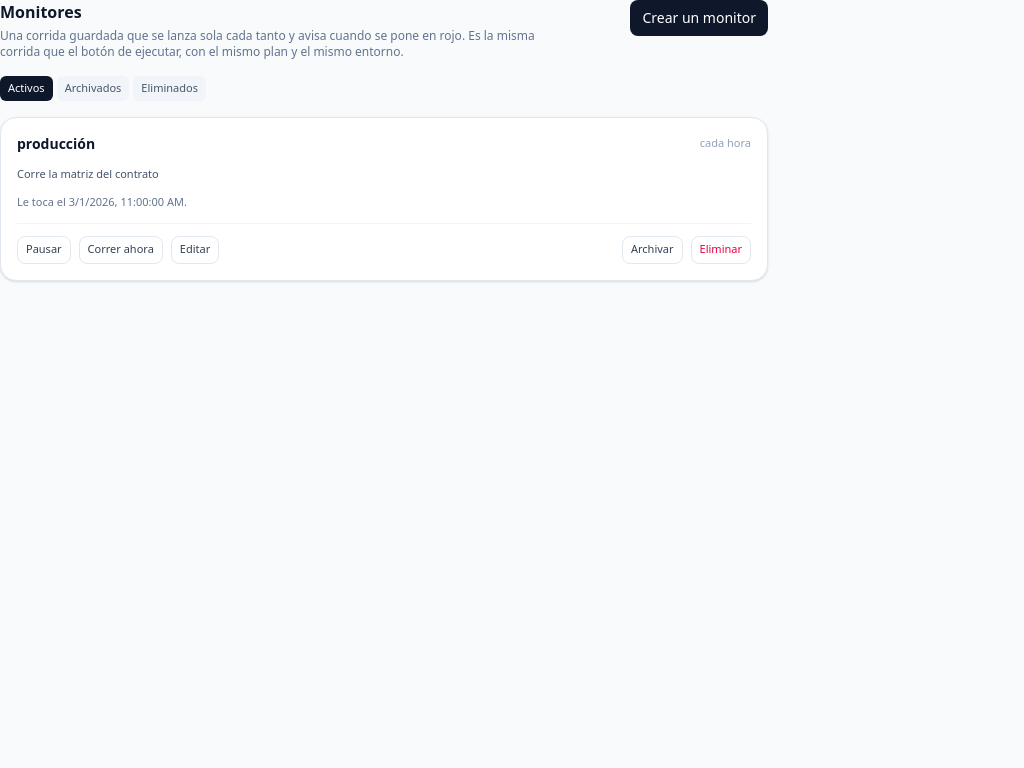
Test: los botones de la tarjeta › eliminar: cancelar no borra; confirmar borra y lo dice; un fallo se dice
Step 1. Click the button "Eliminar" → (721,250), box [691, 236, 751, 264]
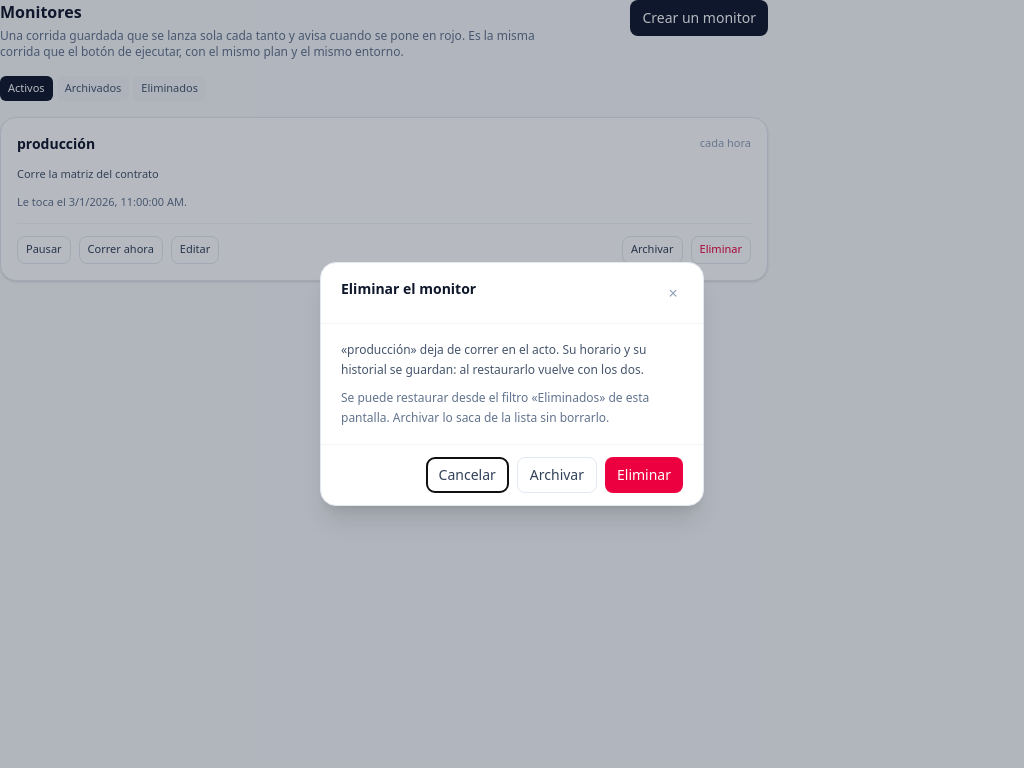
Step 2. Click the button "Cancelar" → (467,475), box [426, 457, 509, 493]
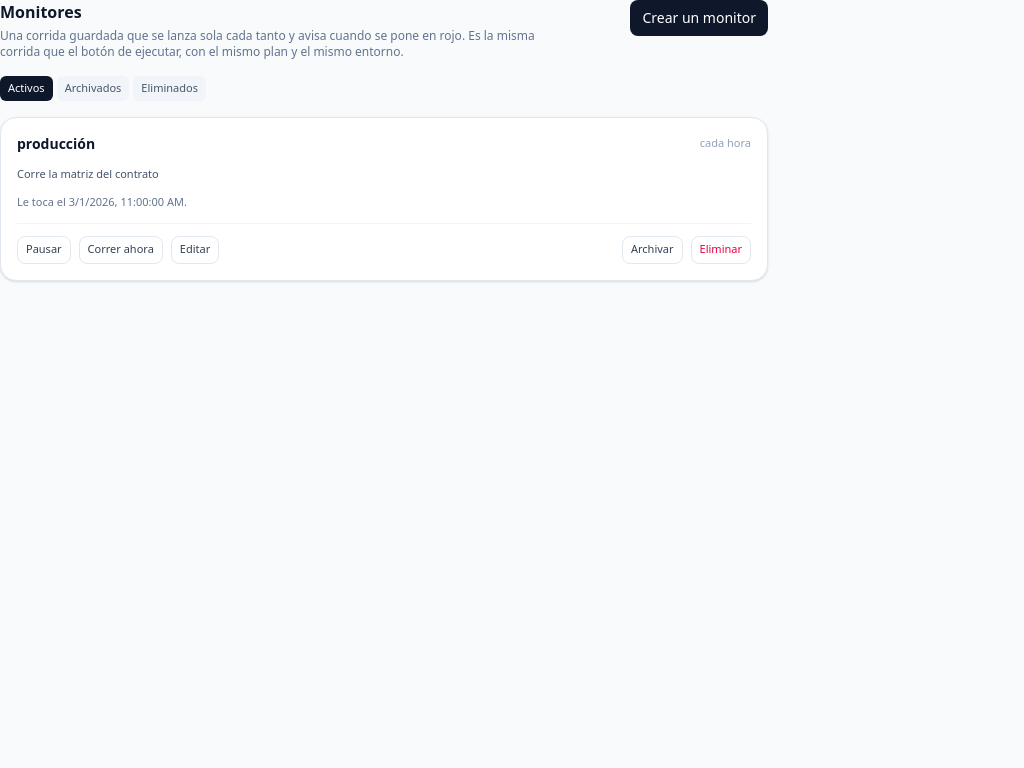
Check: the dialog is gone
Step 3. Click the button "Eliminar" → (721,250), box [691, 236, 751, 264]
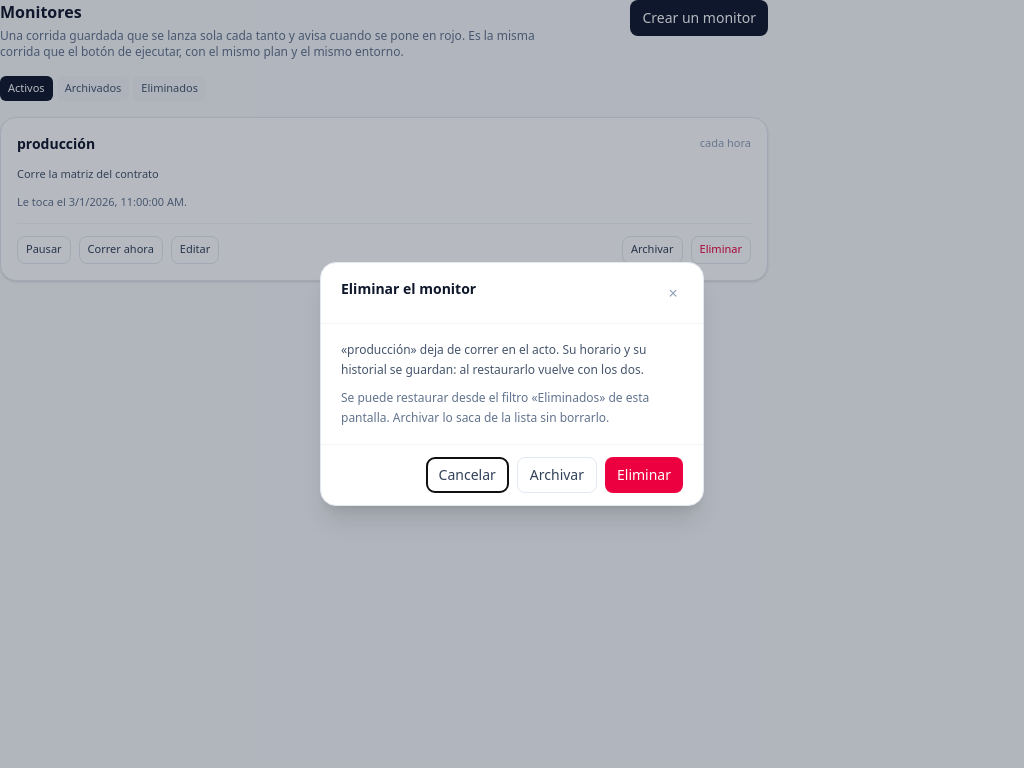
Step 4. Click the button "Eliminar" → (644,475), box [605, 457, 683, 493]
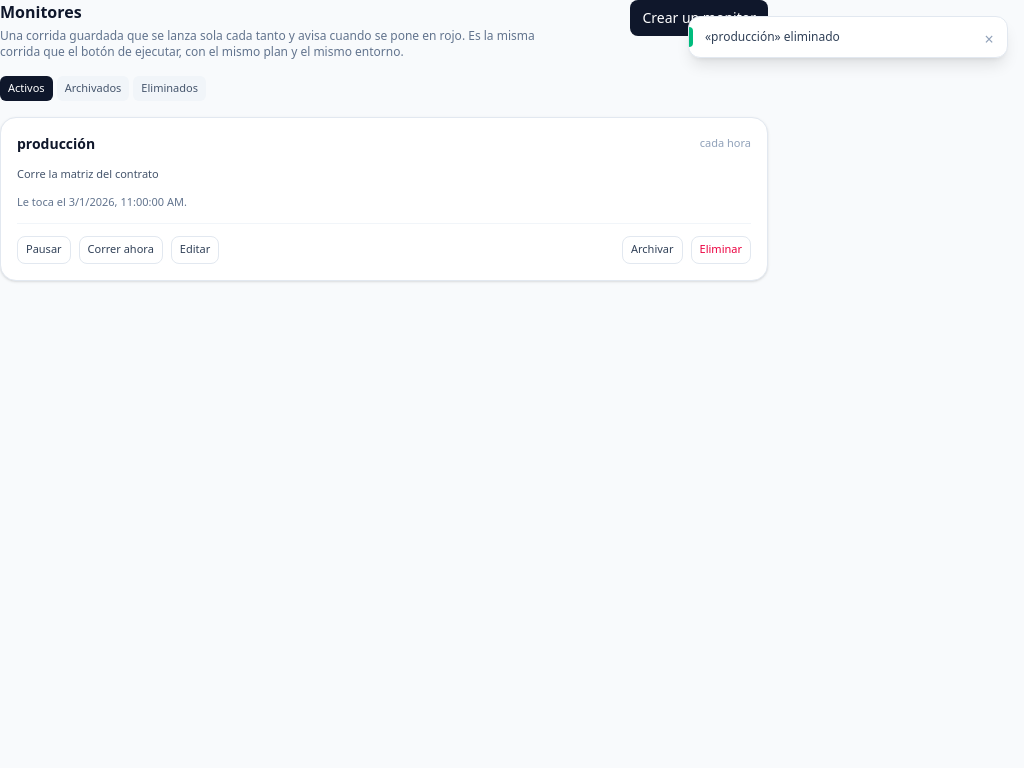
Check: the text "«producción» eliminado" is shown, box [705, 28, 840, 45]
Step 5. Click the button "Eliminar" → (721,250), box [691, 236, 751, 264]
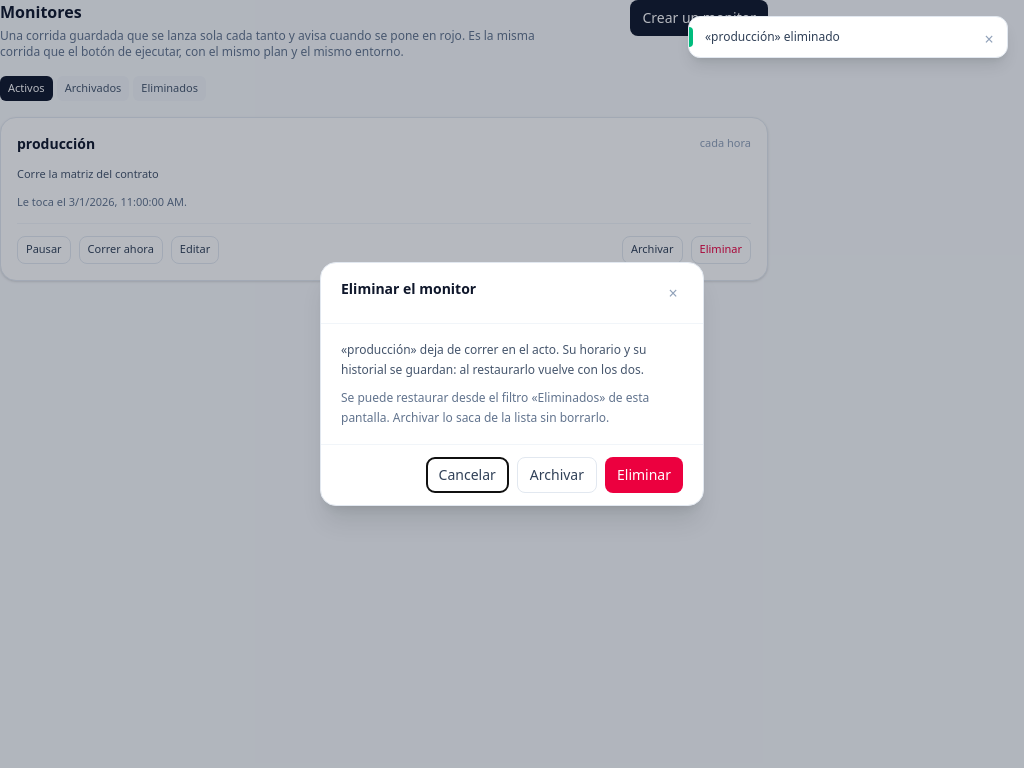
Step 6. Click the button "Eliminar" → (644,475), box [605, 457, 683, 493]
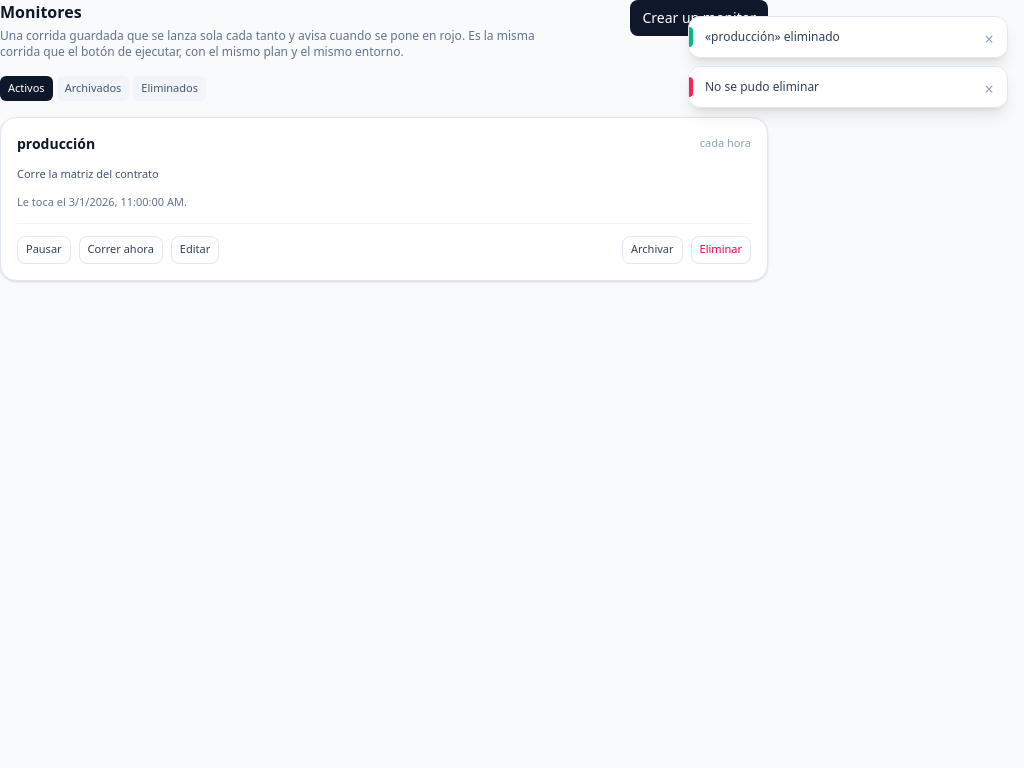
Check: the text "No se pudo eliminar" is shown, box [705, 78, 819, 95]
Check: the dialog is gone
